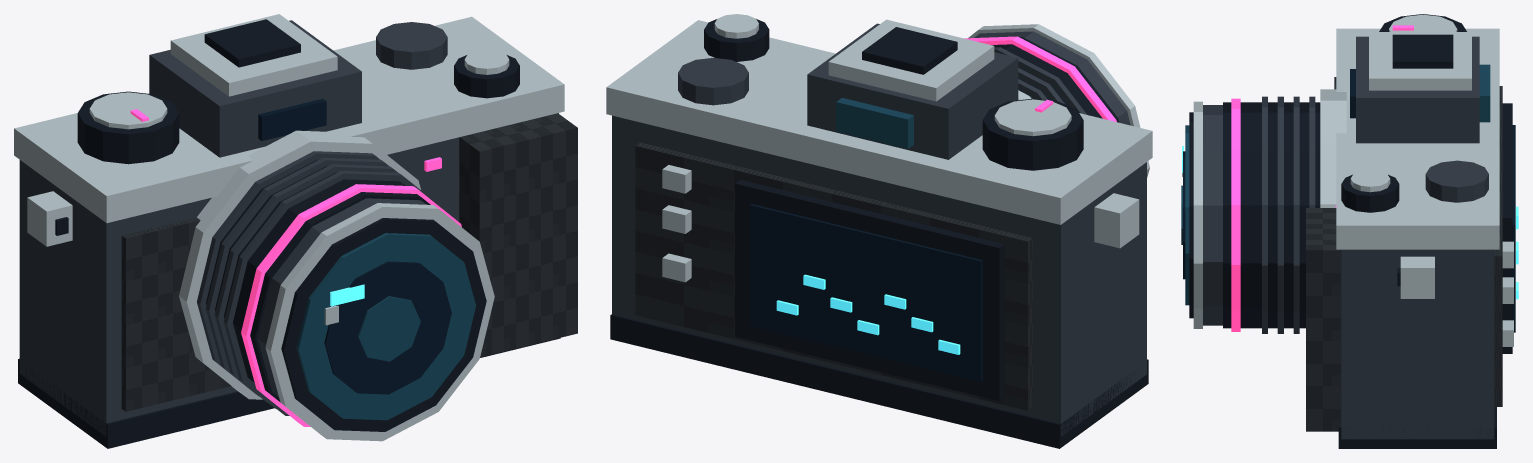
The model's file is portfolio-camera.glb.
3 views of the same model, side by side, from view 1: azimuth 30°, elevation 25°; view 2: azimuth 150°, elevation 25°; view 3: azimuth 270°, elevation 25° (orthographic). The views are drawn at different scales.
Visible parts, largest first — view 1: camera-metal, camera-body, camera-grip, camera-rubber, camera-glass, camera-iris, camera-pink; view 2: camera-body, camera-metal, camera-rubber, camera-iris, camera-grip, camera-glass, camera-cyan, camera-pink; view 3: camera-body, camera-metal, camera-rubber, camera-grip, camera-pink, camera-glass, camera-iris.
Boxes of the visible parts, x1,y1,x2,y2 form: camera-metal: (14, 14, 564, 441); camera-body: (19, 20, 558, 436); camera-grip: (121, 113, 577, 411); camera-rubber: (18, 19, 560, 448); camera-glass: (296, 233, 475, 420); camera-iris: (258, 98, 451, 394); camera-pink: (130, 109, 461, 426); camera-body: (612, 23, 1146, 436); camera-metal: (606, 14, 1152, 282); camera-rubber: (610, 19, 1148, 448); camera-iris: (750, 204, 982, 382); camera-grip: (635, 142, 1032, 410); camera-glass: (836, 97, 913, 148); camera-cyan: (776, 274, 960, 354); camera-pink: (964, 36, 1116, 121); camera-body: (1203, 36, 1494, 439); camera-metal: (1182, 14, 1513, 346); camera-rubber: (1189, 14, 1512, 448); camera-grip: (1306, 77, 1502, 431); camera-pink: (1231, 25, 1413, 331); camera-glass: (1181, 64, 1490, 305); camera-iris: (1183, 69, 1515, 332).
Bounding box in the file's own units: 1.95 × 1.23 × 1.28.
8 materials, 1 textured.
